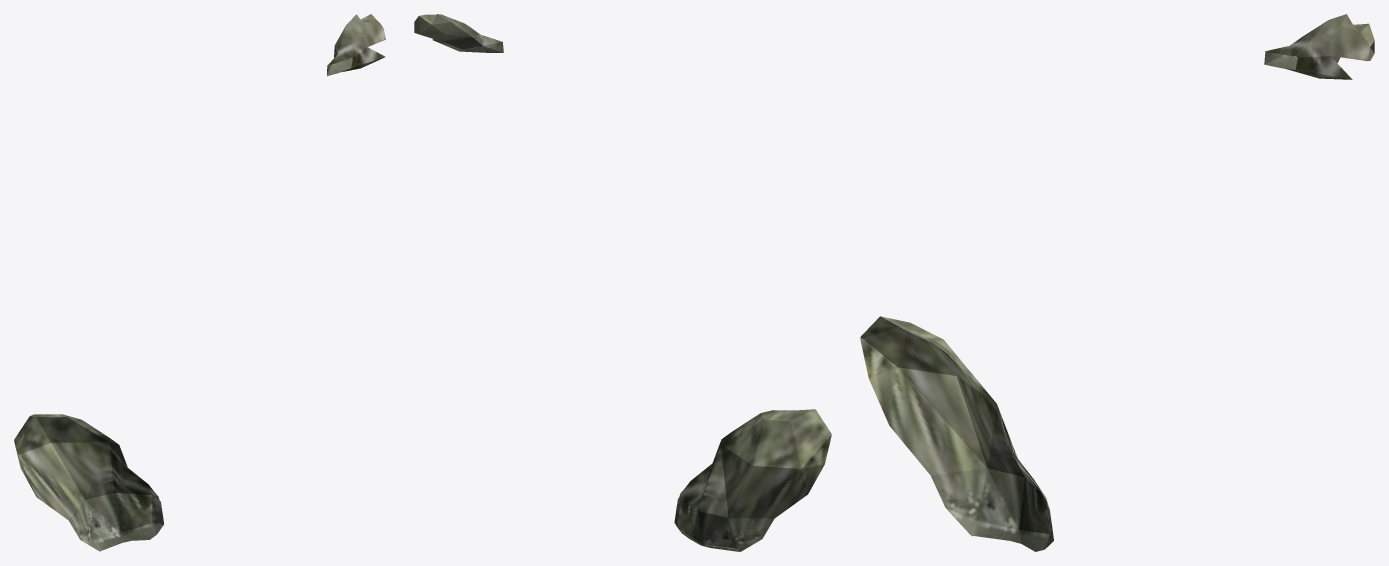
3 views of the same model, side by side, from view 1: azimuth 30°, elevation 25°; view 2: azimuth 150°, elevation 25°; view 3: azimuth 330°, elevation 25° (orthographic). The views are drawn at different scales.
Bounding box in the file's own units: 2.04 × 2.34 × 0.1788.
1 material, 1 textured.
